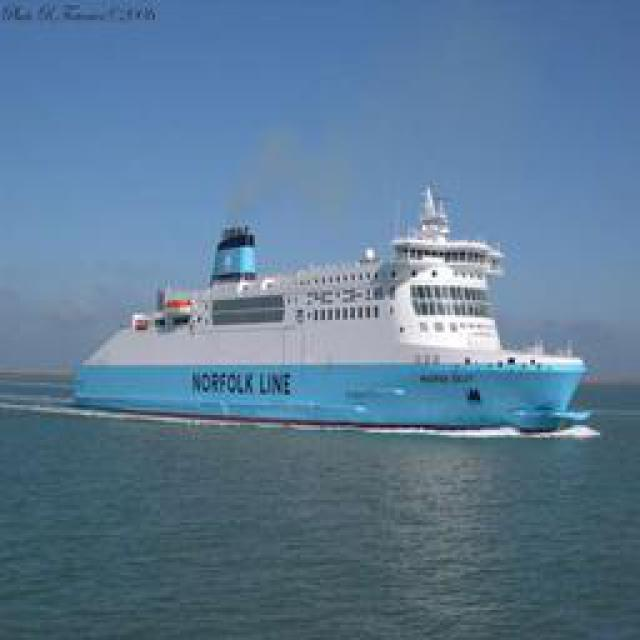Ship: (66, 188, 599, 426)
